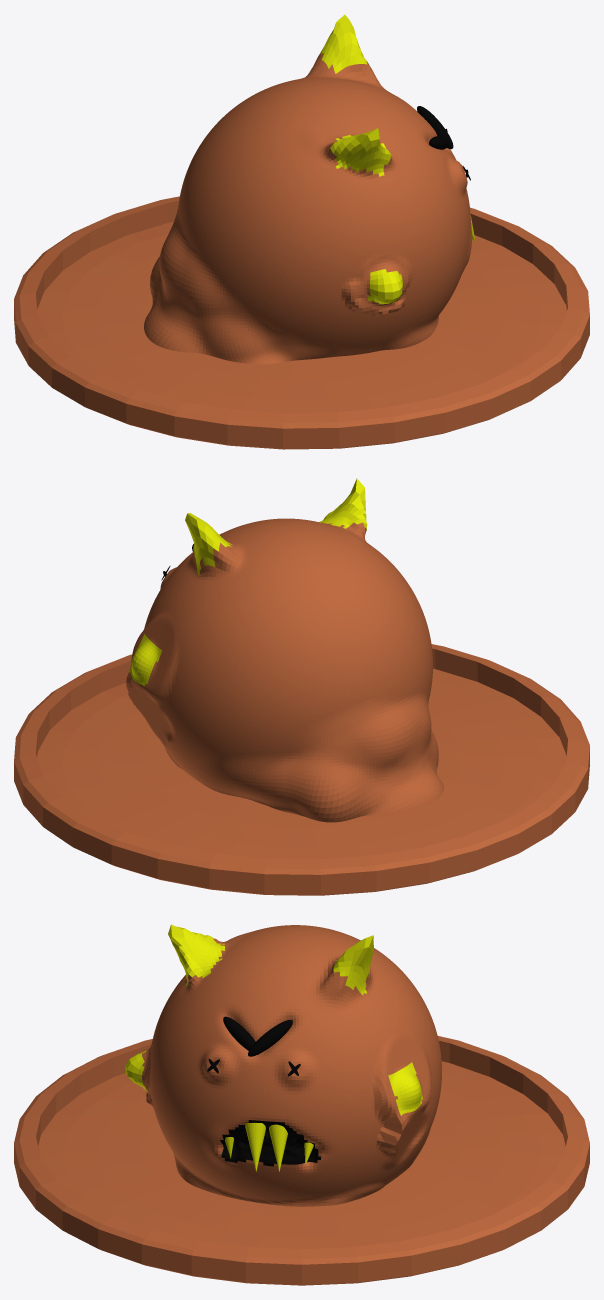
File: headonplate.fbx
The picture shows the model from 3 angles, top to bottom: view 1: azimuth 30°, elevation 25°; view 2: azimuth 150°, elevation 25°; view 3: azimuth 270°, elevation 25°; orthographic projection.
Parts seen in each view (by area): view 1: Sphere; view 2: Sphere; view 3: Sphere.
Boxes of the visible parts, x1,y1,x2,y2 form: Sphere: (14, 14, 589, 449); Sphere: (14, 478, 589, 895); Sphere: (14, 924, 589, 1285).
Size of the model in its own units: 299 by 162 by 299.
